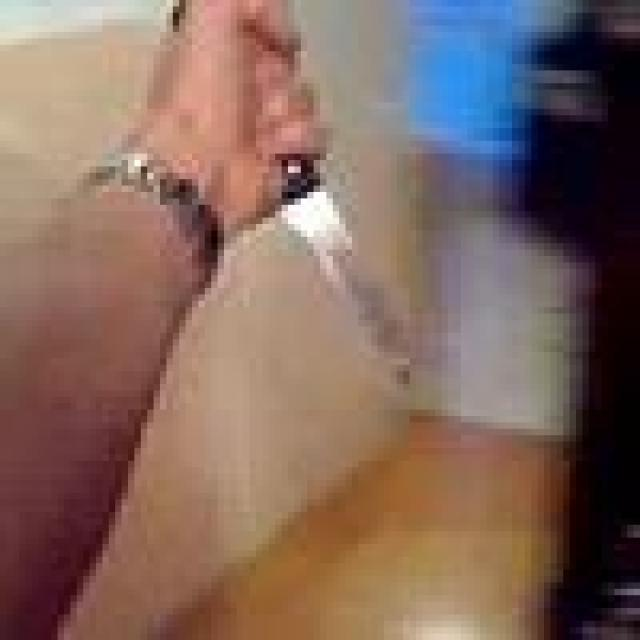faca: (147, 0, 460, 454)
